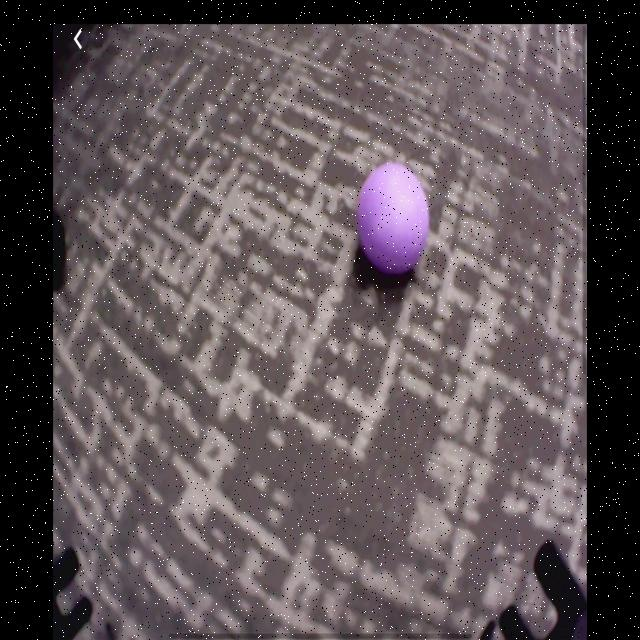ball: (361, 164, 428, 280)
